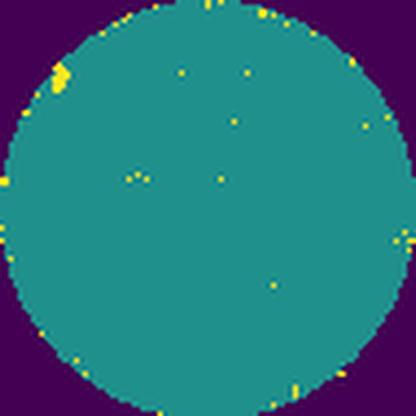Loc: (52, 66, 74, 92)
